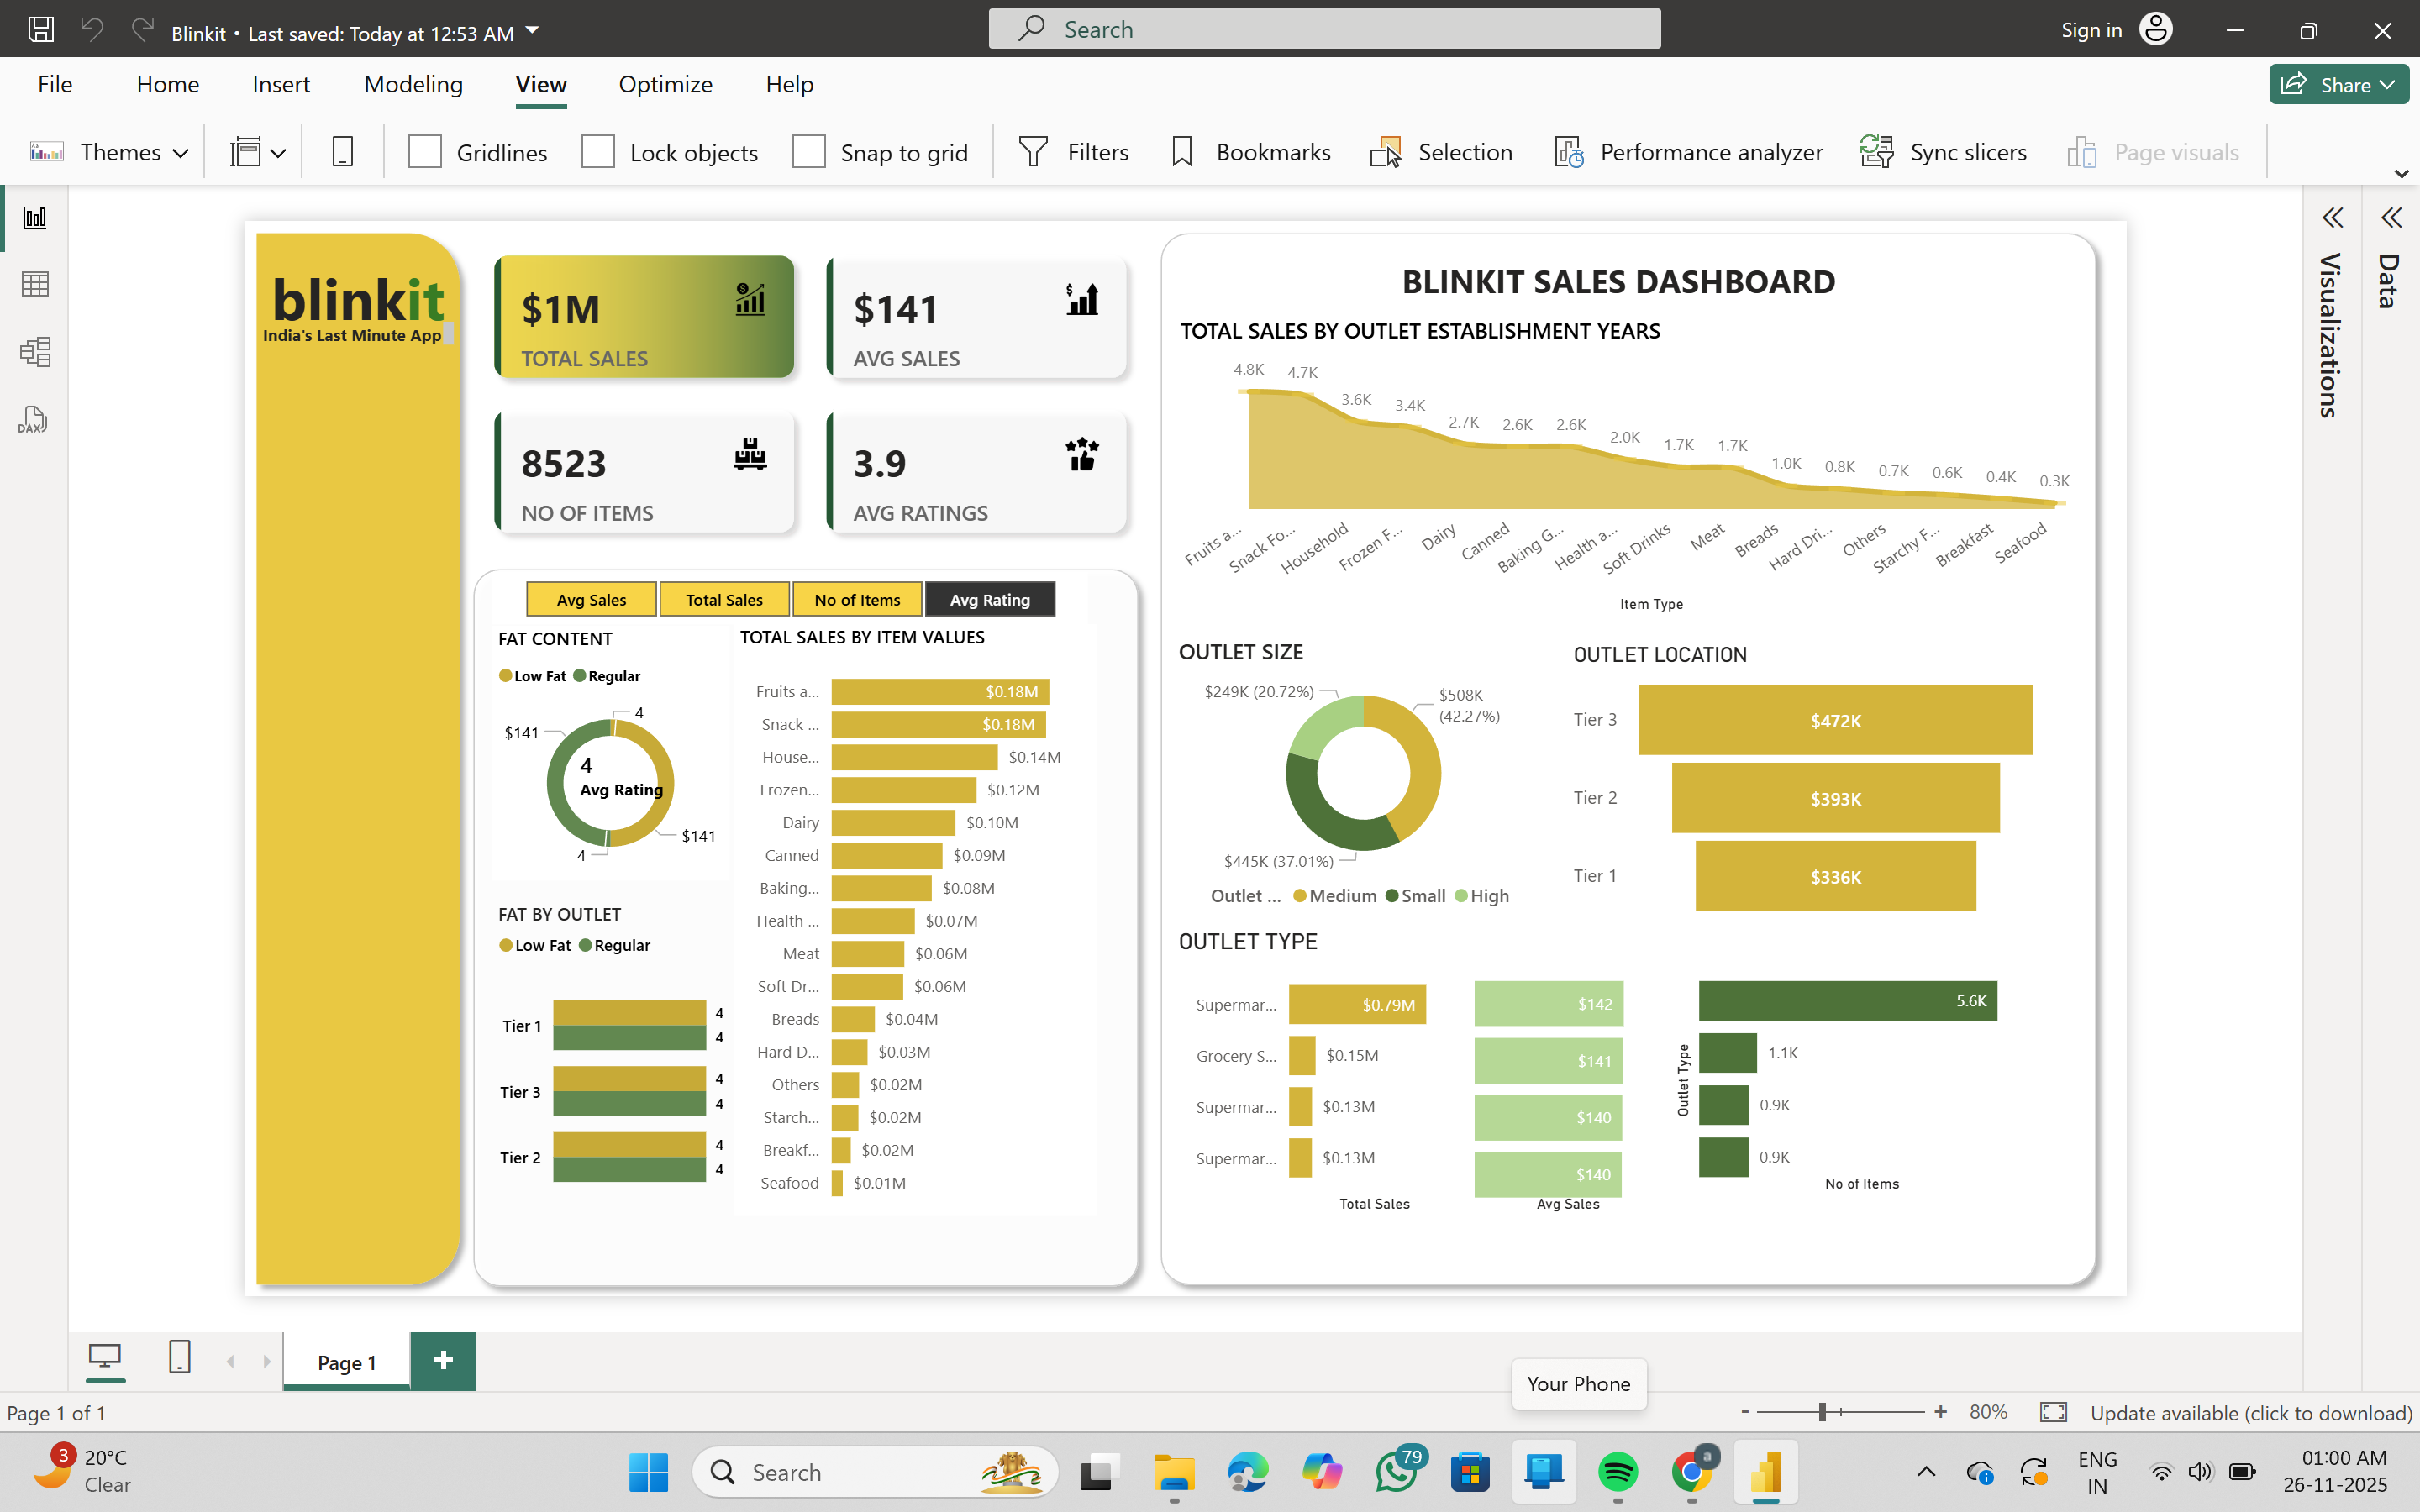

The page's visual inventory and layout, read from the dashboard file:
{"tool":"powerbi","page":{"name":"Page 1","canvas":[1400,800],"ordinal":0},"visuals":[{"type":"shape","box":[0,0,169,800.4],"z":0},{"type":"textbox","box":[0,23,169,67],"z":1000},{"type":"textbox","box":[9,70,152,27],"z":2000},{"type":"shape","box":[672.1,0,714,800.6],"z":3000},{"type":"cardVisual","fields":{"Data":["BlinkIT Grocery Data.Total Sales","BlinkIT Grocery Data.Avg Sales","BlinkIT Grocery Data.No of Items","BlinkIT Grocery Data.Avg Rating"]},"box":[169.1,8.4,504.4,241.7],"z":4000},{"type":"shape","box":[160.7,250.1,512.8,551.9],"z":5000},{"type":"donutChart","title":"FAT CONTENT ","fields":{"Y":["BlinkIT Grocery Data.Avg Rating","BlinkIT Grocery Data.Avg Sales"],"Category":["Table1.Item Fat Content"]},"box":[184.1,301.2,177.1,189.6],"z":6000},{"type":"slicer","fields":{"Values":["Metrics.Metrics"]},"box":[183.5,261.5,443.6,39],"z":7000},{"type":"cardVisual","fields":{"Data":["BlinkIT Grocery Data.Avg Rating"]},"box":[232.6,364.1,145.9,96.8],"z":8000},{"type":"clusteredBarChart","title":"FAT BY OUTLET","fields":{"Y":["BlinkIT Grocery Data.Avg Rating"],"Category":["BlinkIT Grocery Data.Outlet Location Type"],"Series":["Table1.Item Fat Content"]},"box":[183.5,505.7,177.7,235.5],"z":9000},{"type":"clusteredBarChart","title":" TOTAL SALES BY ITEM VALUES","fields":{"Category":["BlinkIT Grocery Data.Item Type"],"Y":["BlinkIT Grocery Data.Total Sales"]},"box":[364.1,300.1,270,440.7],"z":10000},{"type":"areaChart","title":"TOTAL SALES BY OUTLET ESTABLISHMENT YEARS","fields":{"Y":["Sum(BlinkIT Grocery Data.Rating)"],"Category":["BlinkIT Grocery Data.Item Type"]},"box":[691.2,70.2,676.4,225.5],"z":11000},{"type":"donutChart","title":"OUTLET SIZE","fields":{"Category":["BlinkIT Grocery Data.Outlet Size"],"Y":["BlinkIT Grocery Data.Total Sales"]},"box":[690.6,308.9,285,212.2],"z":12000},{"type":"funnel","title":"OUTLET LOCATION ","fields":{"Y":["BlinkIT Grocery Data.Total Sales"],"Category":["BlinkIT Grocery Data.Outlet Location Type"]},"box":[983.1,313.9,356.6,212.2],"z":13000},{"type":"clusteredBarChart","title":"OUTLET TYPE","fields":{"Y":["BlinkIT Grocery Data.Total Sales"],"Category":["BlinkIT Grocery Data.Outlet Type"]},"box":[690.6,526.1,219.7,216],"z":14000},{"type":"clusteredBarChart","fields":{"Y":["BlinkIT Grocery Data.Avg Sales"],"Category":["BlinkIT Grocery Data.Outlet Type"]},"box":[910.3,552.5,149.4,189.6],"z":15000},{"type":"clusteredBarChart","fields":{"Y":["BlinkIT Grocery Data.No of Items"],"Category":["BlinkIT Grocery Data.Outlet Type"]},"box":[1059.7,552.5,270,174.5],"z":16000},{"type":"textbox","box":[712.8,23,626.4,47.3],"z":17000}]}

Visuals, with their boxes on the page's 1400x800 design canvas (x1, y1, x2, y2). These are canvas units, not pixel positions in the 2420x1512 screenshot, which may show the page scaled, cropped or inside an application window:
shape: BBox(0, 0, 169, 800)
textbox: BBox(0, 23, 169, 90)
textbox: BBox(9, 70, 161, 97)
shape: BBox(672, 0, 1386, 801)
cardVisual - BlinkIT Grocery Data.Total Sales x BlinkIT Grocery Data.Avg Sales: BBox(169, 8, 674, 250)
shape: BBox(161, 250, 674, 802)
"FAT CONTENT " donutChart: BBox(184, 301, 361, 491)
slicer - Metrics.Metrics: BBox(184, 262, 627, 300)
cardVisual - BlinkIT Grocery Data.Avg Rating: BBox(233, 364, 378, 461)
"FAT BY OUTLET" clusteredBarChart: BBox(184, 506, 361, 741)
" TOTAL SALES BY ITEM VALUES" clusteredBarChart: BBox(364, 300, 634, 741)
"TOTAL SALES BY OUTLET ESTABLISHMENT YEARS" areaChart: BBox(691, 70, 1368, 296)
"OUTLET SIZE" donutChart: BBox(691, 309, 976, 521)
"OUTLET LOCATION " funnel: BBox(983, 314, 1340, 526)
"OUTLET TYPE" clusteredBarChart: BBox(691, 526, 910, 742)
clusteredBarChart - BlinkIT Grocery Data.Avg Sales x BlinkIT Grocery Data.Outlet Type: BBox(910, 552, 1060, 742)
clusteredBarChart - BlinkIT Grocery Data.No of Items x BlinkIT Grocery Data.Outlet Type: BBox(1060, 552, 1330, 727)
textbox: BBox(713, 23, 1339, 70)
